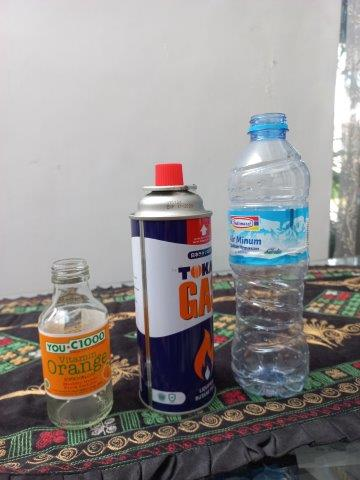botolkaca: (37, 260, 115, 429)
botolplastik: (231, 113, 310, 397)
kaleng: (132, 160, 212, 413)
